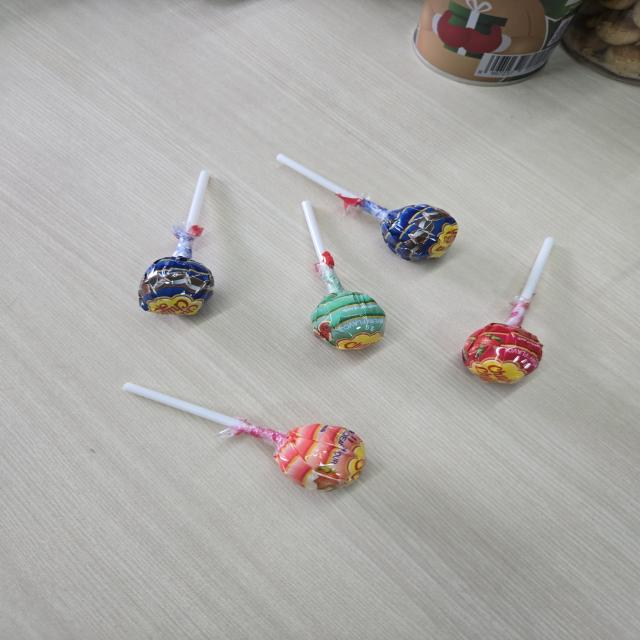lollipop: (119, 378, 368, 498), (274, 149, 460, 264), (460, 233, 558, 390), (296, 198, 391, 352), (136, 168, 220, 322)
